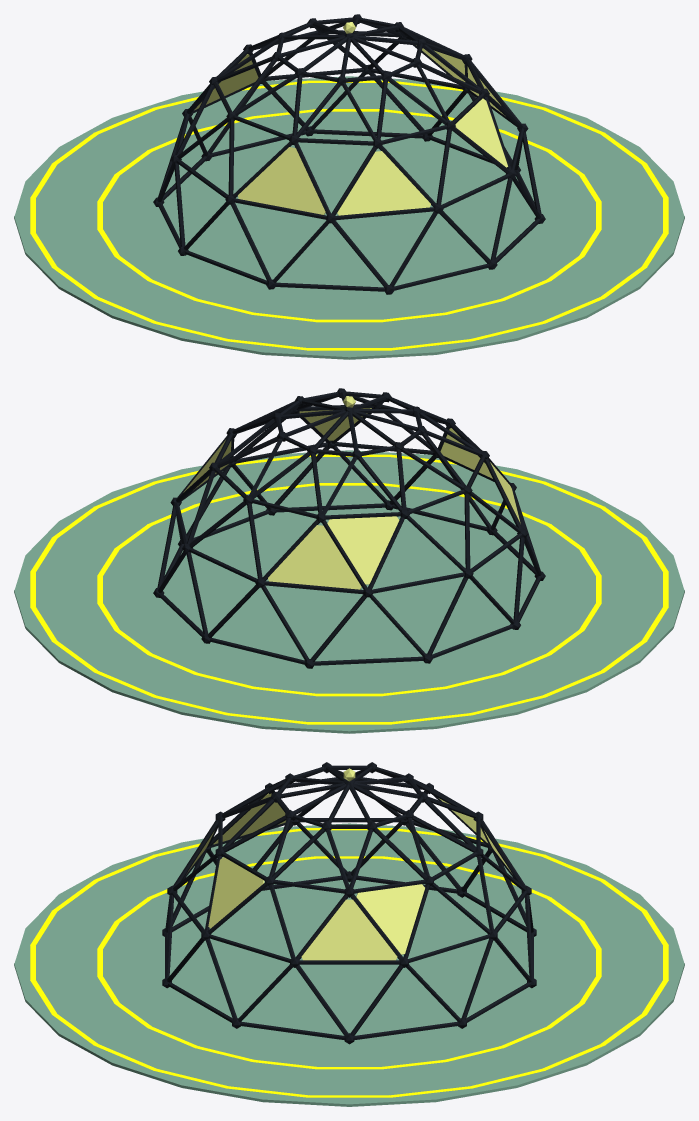
The picture shows the model from 3 angles, top to bottom: view 1: azimuth 30°, elevation 25°; view 2: azimuth 150°, elevation 25°; view 3: azimuth 270°, elevation 25°; orthographic projection.
Parts seen in each view (by area): view 1: Fall_Zone_Pad, Dome_Frame, Court_Panels, Court_Line; view 2: Fall_Zone_Pad, Dome_Frame, Court_Line, Court_Panels; view 3: Fall_Zone_Pad, Dome_Frame, Court_Panels, Court_Line.
Part boxes in pixels (x1,y1,x2,y2): Fall_Zone_Pad: (14,76,684,359); Dome_Frame: (153,14,545,294); Court_Panels: (194,45,507,215); Court_Line: (30,80,668,350); Fall_Zone_Pad: (14,450,684,733); Dome_Frame: (153,388,545,668); Court_Line: (30,454,668,724); Court_Panels: (183,408,520,589); Fall_Zone_Pad: (14,823,684,1106); Dome_Frame: (162,762,536,1044); Court_Panels: (187,793,511,960); Court_Line: (30,828,668,1097).
Size of what is drawn, in the model's own units: 7 by 2.25 by 7.
Materials: 4 (1 with a texture image).
